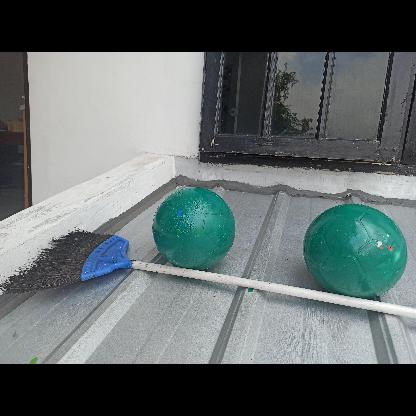green_ball: (303, 202, 407, 306), (152, 186, 236, 270)
